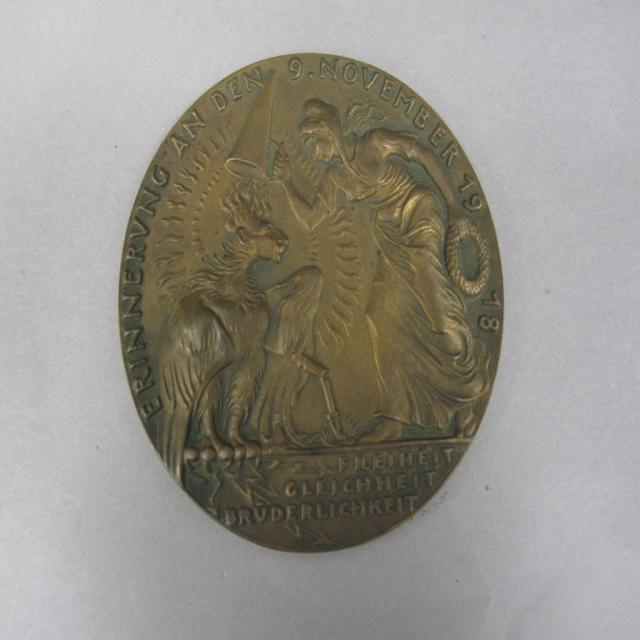Coin: (117, 49, 505, 557)
